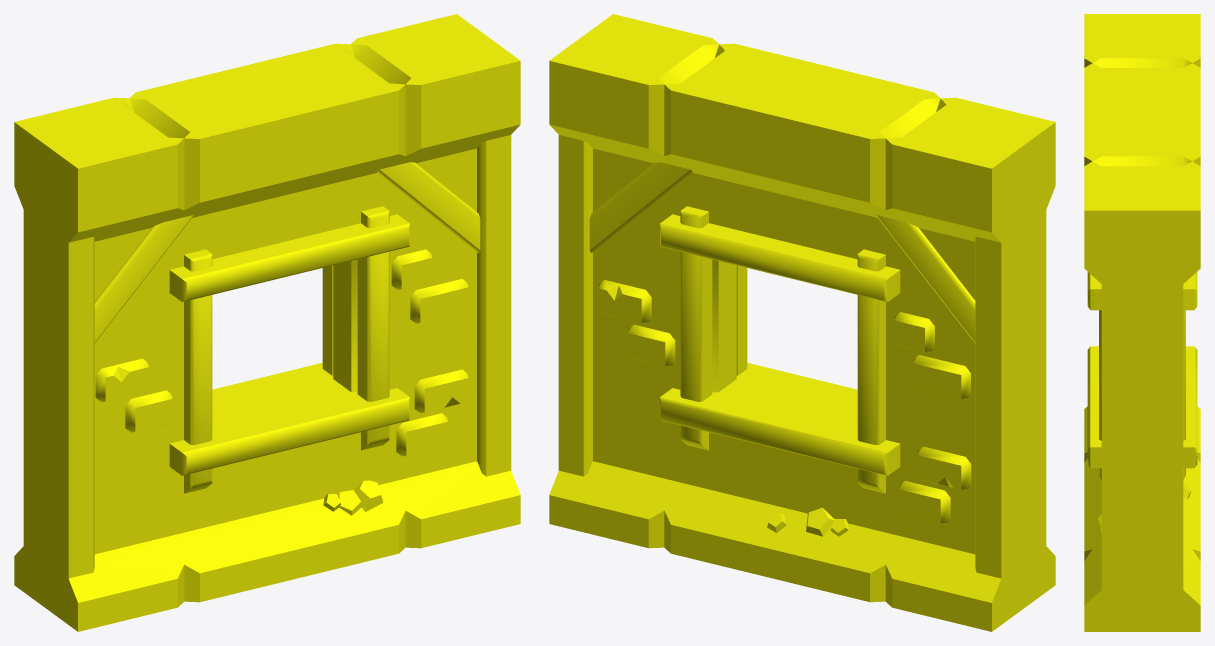
Rendered from kaykit-wall-window-open-scaffold.glb.
3 renders of one model, left to right at view 1: azimuth 30°, elevation 25°; view 2: azimuth 150°, elevation 25°; view 3: azimuth 270°, elevation 25°, orthographic. The views are drawn at different scales.
Visible parts, largest first — view 1: wall_window_open_scaffold; view 2: wall_window_open_scaffold; view 3: wall_window_open_scaffold.
Boxes of the visible parts, x1,y1,x2,y2 form: wall_window_open_scaffold: [14, 14, 520, 631]; wall_window_open_scaffold: [549, 14, 1055, 631]; wall_window_open_scaffold: [1084, 14, 1200, 631].
Size of the model in its own units: 4 by 4 by 1.
